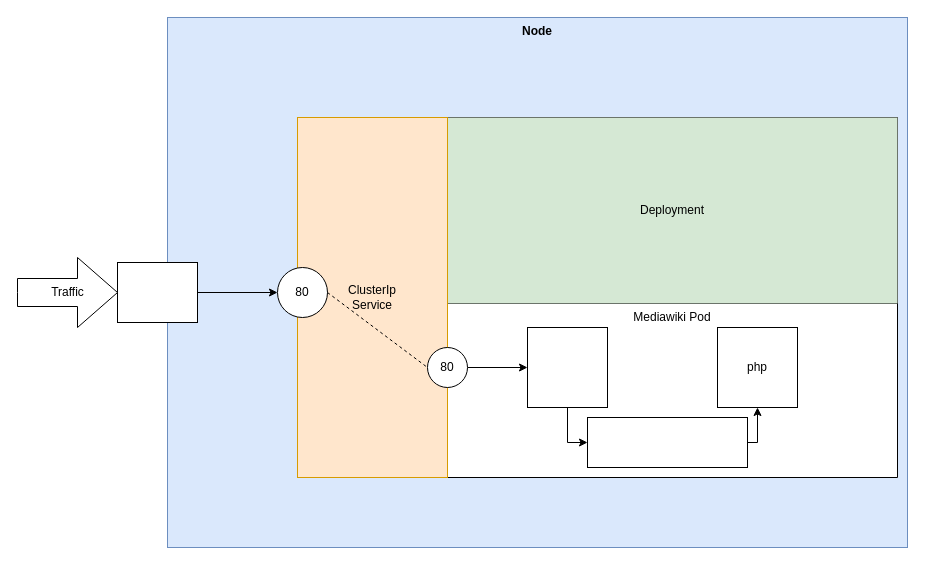
Some shapes in this 925 by 565 pixel diagram are drawn without their labels. The shapes that lost their labels are listed below. From the top down, each one's box as (x1, y1, x2, y2) in pixels, then its label:
(116, 262, 198, 322): Ingress Service
(526, 326, 608, 408): Apache
(586, 416, 748, 468): socket volume
